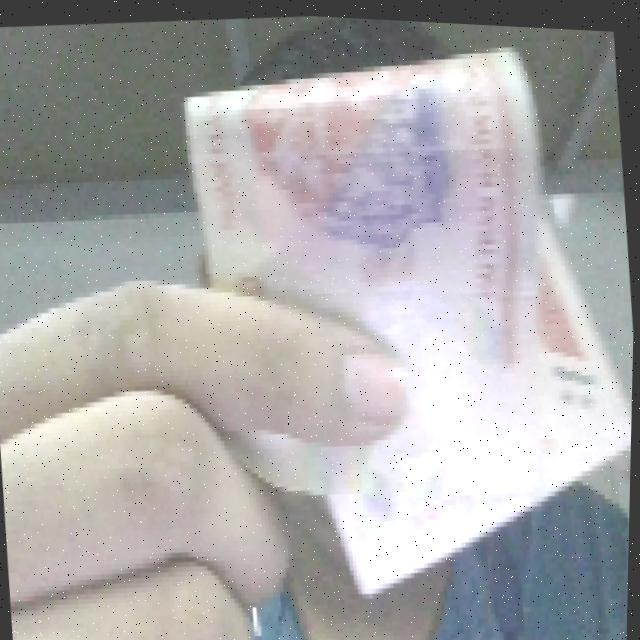200 000 VND: (164, 9, 640, 618)
